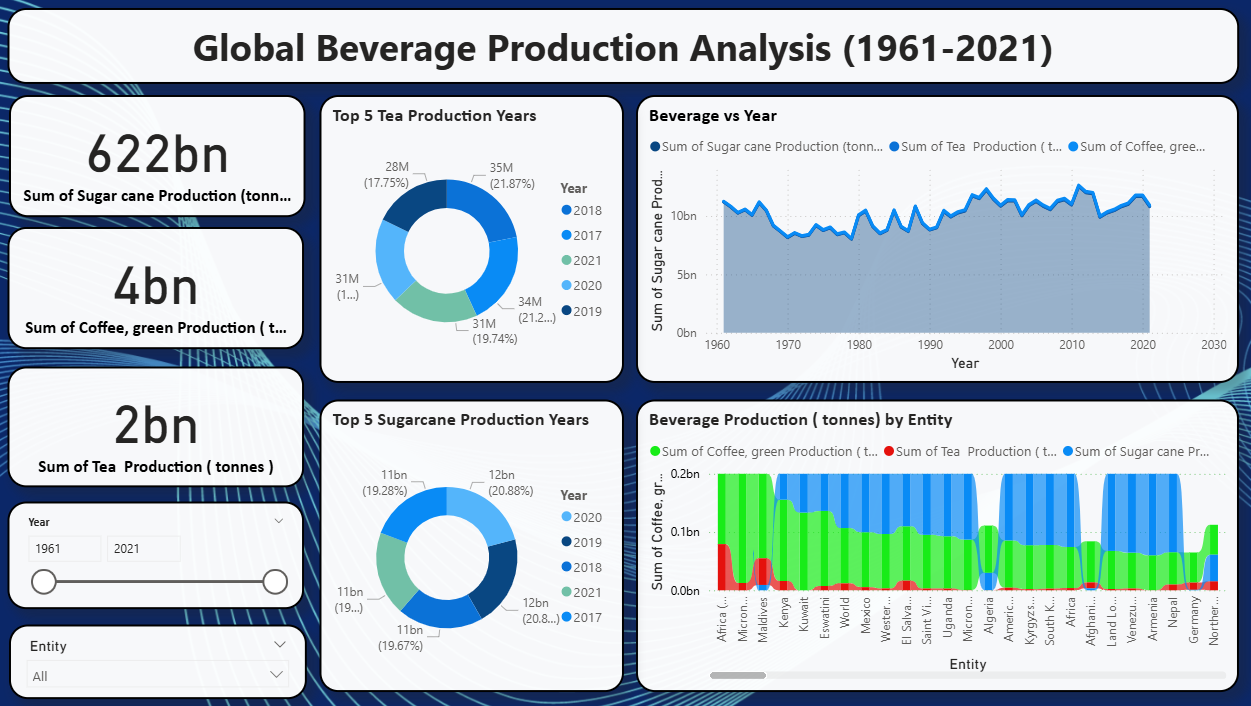

What the dashboard file says about the page in this screenshot:
{"tool":"powerbi","page":{"name":"Global Beverage Analysis","canvas":[1280,720],"ordinal":2},"visuals":[{"type":"textbox","box":[16.7,15,1243.3,76.7],"z":0},{"type":"card","fields":{"Values":["Sum(world food production.Sugar cane Production (tonnes))"]},"box":[17.8,102.9,299.2,123.5],"z":1000},{"type":"card","fields":{"Values":["Sum(world food production.Coffee, green Production ( tonnes))"]},"box":[16.5,236,299.2,123.5],"z":2000},{"type":"card","fields":{"Values":["Sum(world food production.Tea  Production ( tonnes ))"]},"box":[16.5,377.4,299.2,122.1],"z":3000},{"type":"stackedAreaChart","title":"Beverage vs Year","fields":{"Category":["world food production.Year"],"Y":["Sum(world food production.Sugar cane Production (tonnes))","Sum(world food production.Tea  Production ( tonnes ))","Sum(world food production.Coffee, green Production ( tonnes))"]},"box":[651.1,103,608.7,290.7],"z":4000},{"type":"slicer","fields":{"Values":["world food production.Year"]},"box":[16.5,513.3,299.2,108.4],"z":5000},{"type":"ribbonChart","title":"Beverage Production ( tonnes) by Entity","fields":{"Category":["world food production.Entity"],"Y":["Sum(world food production.Coffee, green Production ( tonnes))","Sum(world food production.Tea  Production ( tonnes ))","Sum(world food production.Sugar cane Production (tonnes))"]},"box":[651.1,410.3,608.7,295.3],"z":6000},{"type":"slicer","fields":{"Values":["world food production.Entity"]},"box":[17.8,638.1,300.5,75.5],"z":7000},{"type":"donutChart","title":"Top 5 Tea Production Years ","fields":{"Category":["world food production.Year"],"Y":["Sum(world food production.Tea  Production ( tonnes ))"]},"box":[331.6,103,307.4,290.7],"z":8000},{"type":"donutChart","title":"Top 5 Sugarcane Production Years ","fields":{"Category":["world food production.Year"],"Y":["Sum(world food production.Sugar cane Production (tonnes))"]},"box":[331.6,410.3,307.4,295.3],"z":9000}]}

Visuals, with their boxes in screenshot pixels (x1, y1, x2, y2), scaled from the page's 1280x720 canvas onto the 1251x706 screenshot:
textbox: crop(16, 15, 1231, 90)
card - Sum(world food production.Sugar cane Production (tonnes)): crop(17, 101, 310, 222)
card - Sum(world food production.Coffee, green Production ( tonnes)): crop(16, 231, 309, 353)
card - Sum(world food production.Tea  Production ( tonnes )): crop(16, 370, 309, 490)
"Beverage vs Year" stackedAreaChart: crop(636, 101, 1231, 386)
slicer - world food production.Year: crop(16, 503, 309, 610)
"Beverage Production ( tonnes) by Entity" ribbonChart: crop(636, 402, 1231, 692)
slicer - world food production.Entity: crop(17, 626, 311, 700)
"Top 5 Tea Production Years " donutChart: crop(324, 101, 625, 386)
"Top 5 Sugarcane Production Years " donutChart: crop(324, 402, 625, 692)
